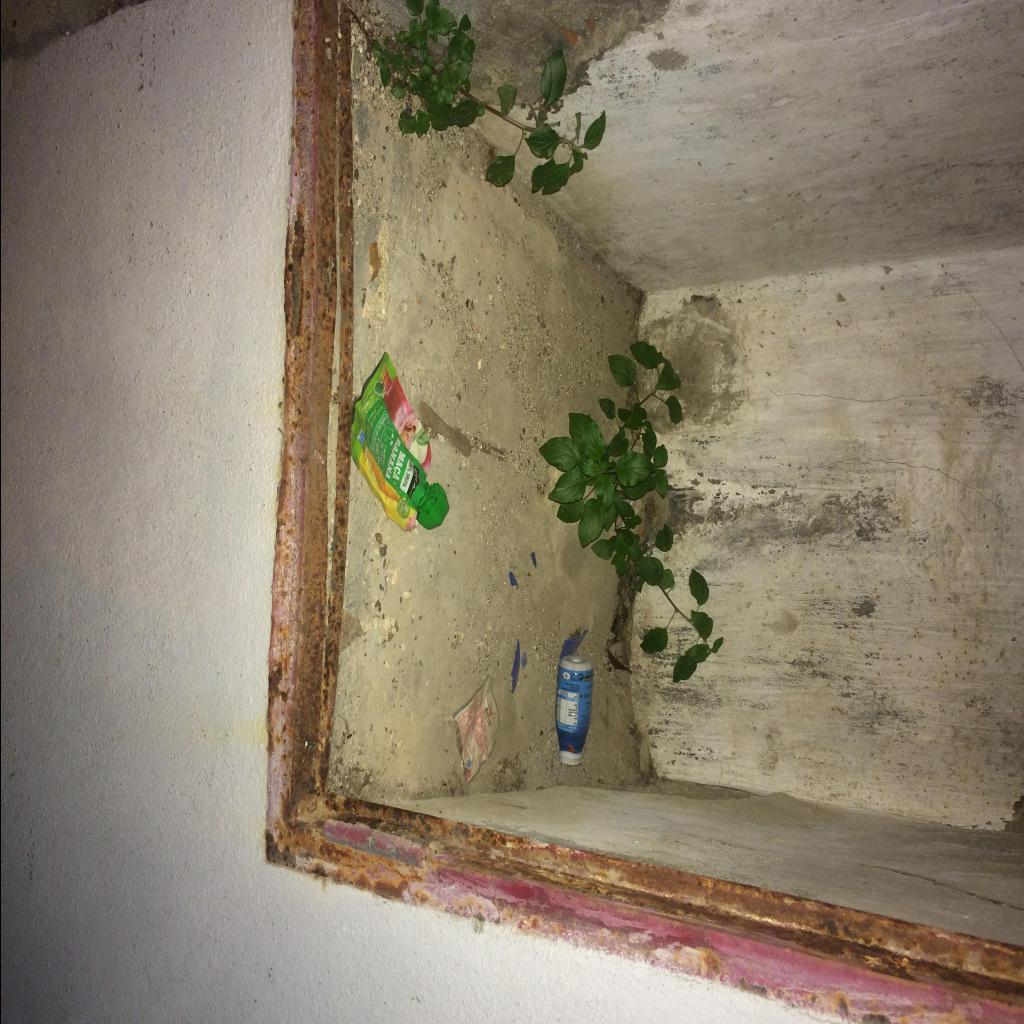Other plastic: (452, 674, 498, 786)
Other plastic bottle: (558, 630, 588, 664), (510, 639, 519, 694), (508, 572, 518, 586), (529, 552, 535, 568), (520, 652, 526, 668)
Other plastic container: (554, 656, 592, 766)
Squeezable tube: (350, 352, 448, 530)
